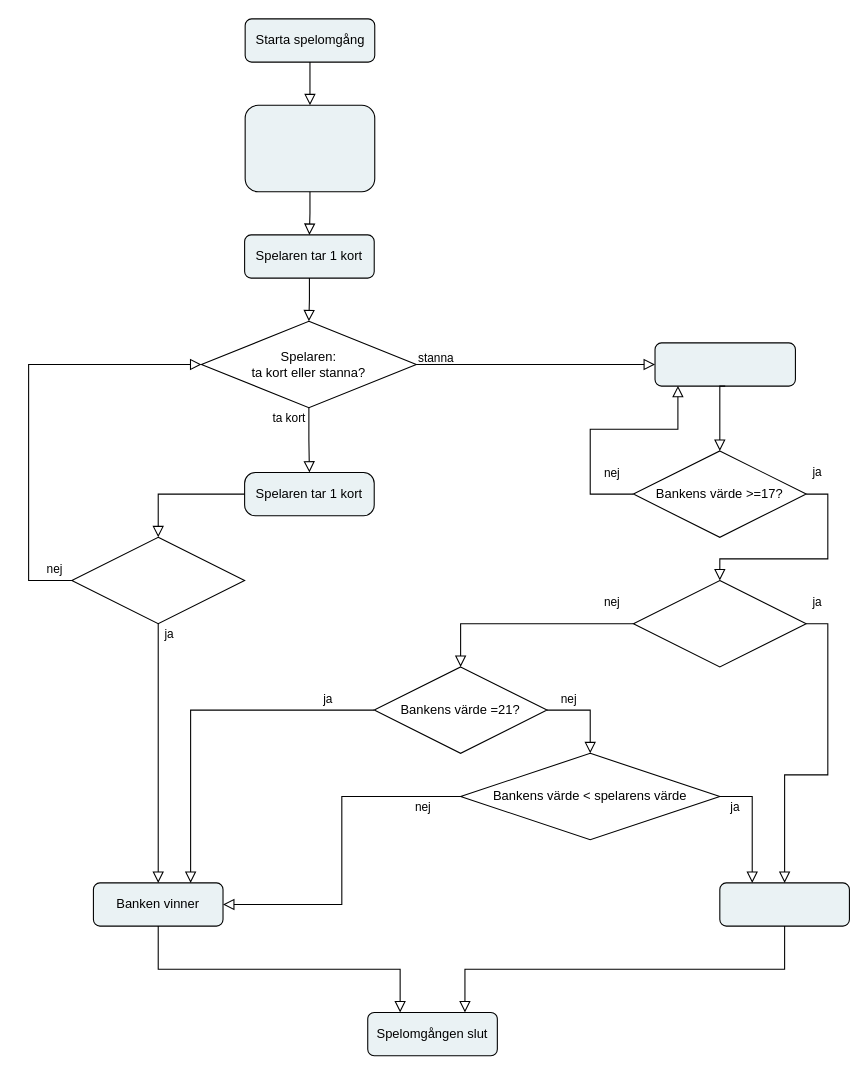
Some shapes in this 868 by 1075 pixel diagram are drawn without their labels. The box of each missing label's shape, as (x1, y1, x2, y2) in pixels:
Banken tar 1 kort: (654, 342, 795, 386)
Bankens värde >21?: (632, 579, 806, 667)
Skapa kortlek, blanda kortlek, skapa bank, skapa spelare: (244, 104, 375, 192)
Spelaren vinner: (719, 882, 849, 926)
Spelarens värde >21?: (71, 536, 245, 624)
